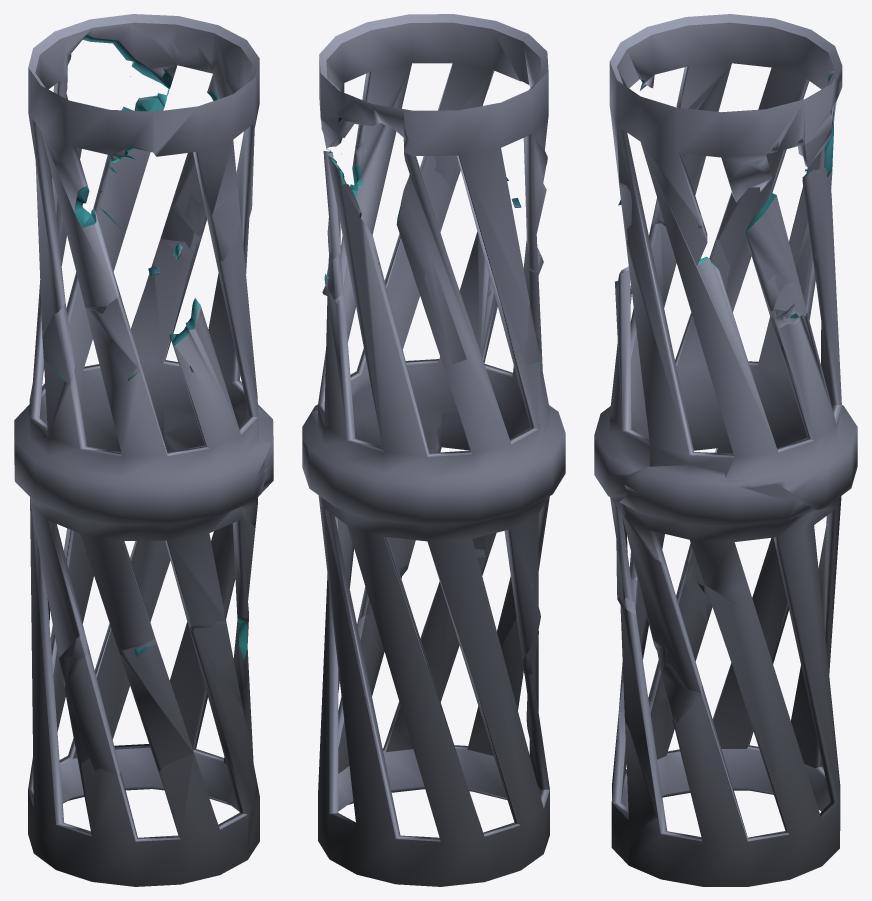
Rendered from SpacePart_Cylinder_013.fbx.
3 renders of one model, left to right at view 1: azimuth 30°, elevation 25°; view 2: azimuth 150°, elevation 25°; view 3: azimuth 270°, elevation 25°, orthographic.
Visible parts, largest first — view 1: Cylinder.013; view 2: Cylinder.013; view 3: Cylinder.013.
Boxes of the visible parts, left/top/right/bottom form: Cylinder.013: left=14, top=14, right=273, bottom=886; Cylinder.013: left=302, top=14, right=565, bottom=886; Cylinder.013: left=594, top=14, right=857, bottom=886.
Bounding box in the file's own units: 3213 × 10444 × 3213.
